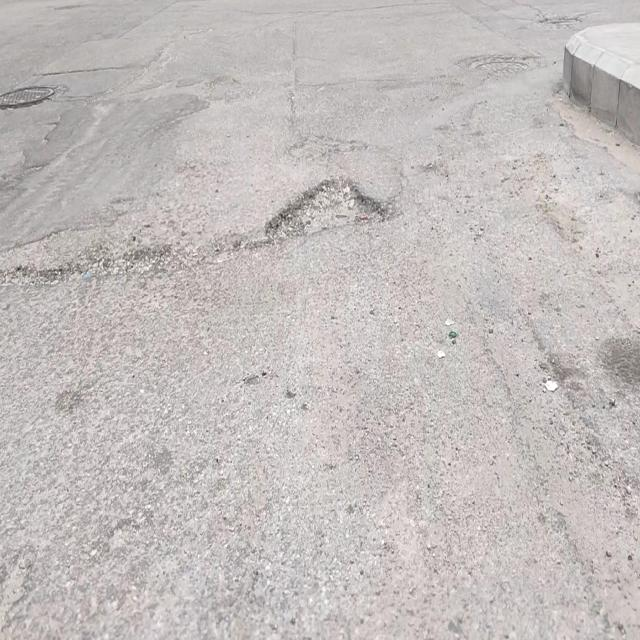Potholes: (267, 171, 388, 244)
